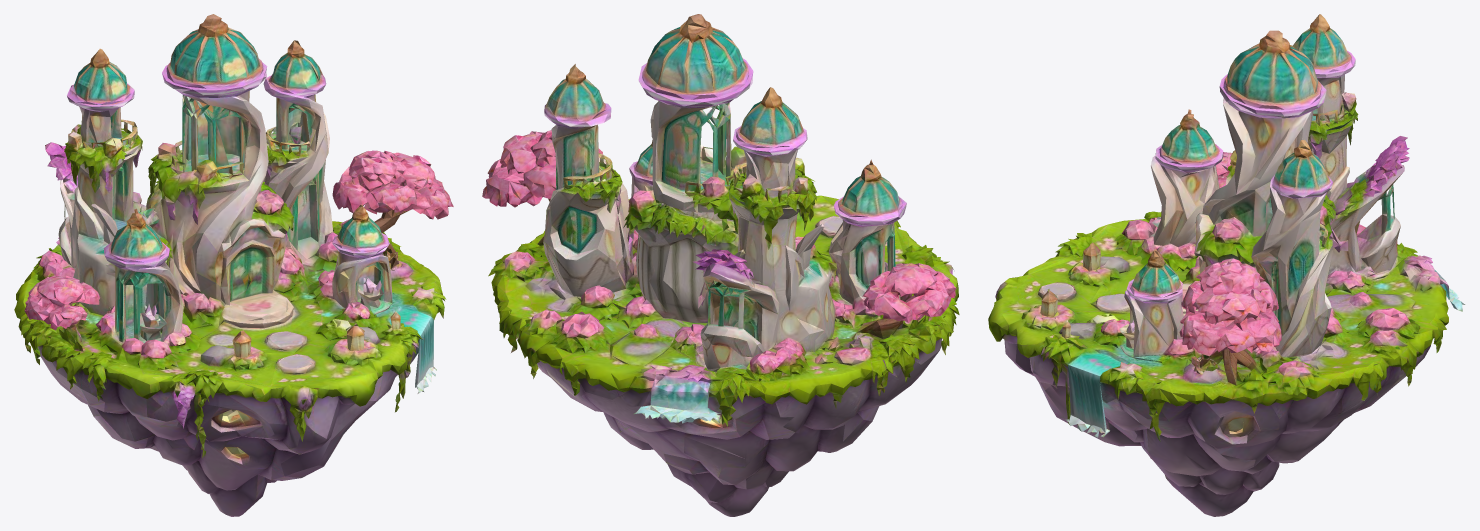
The model's file is city-isle.glb.
3 renders of one model, left to right at view 1: azimuth 30°, elevation 25°; view 2: azimuth 150°, elevation 25°; view 3: azimuth 270°, elevation 25°, orthographic. The views are drawn at different scales.
Bounding box in the file's own units: 1.72 × 1.9 × 1.68.
Materials: 1 (1 with a texture image).
